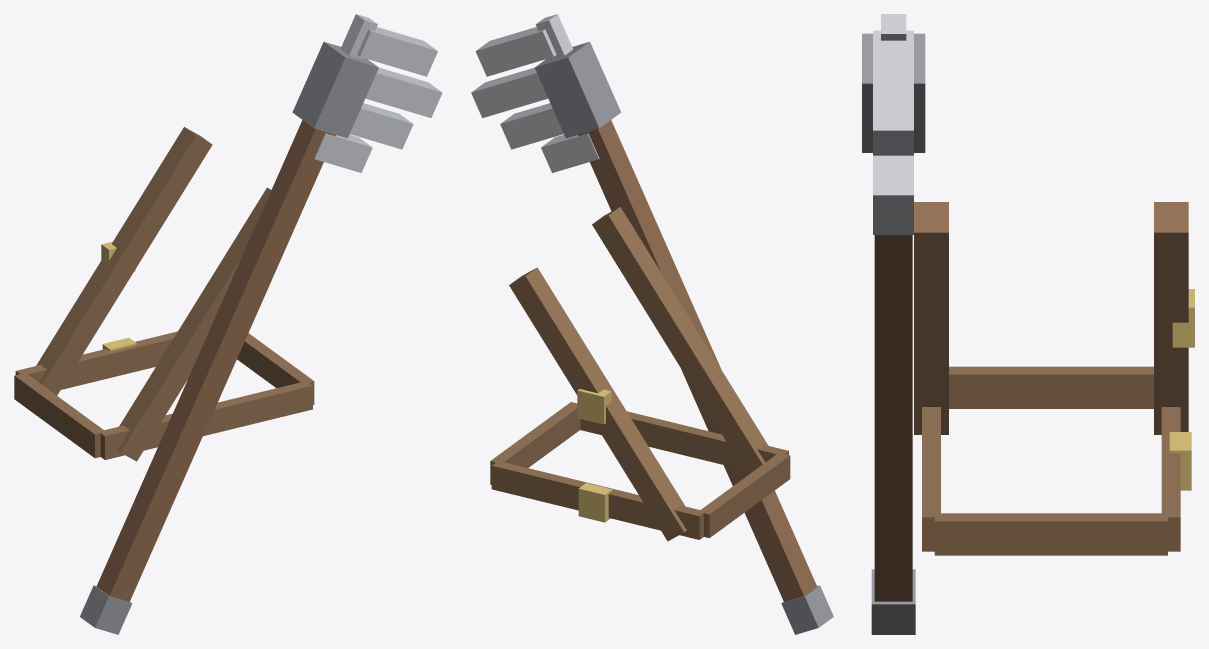
Rendered from machado_batalha_costas.glb.
3 views of the same model, side by side, from view 1: azimuth 30°, elevation 25°; view 2: azimuth 150°, elevation 25°; view 3: azimuth 270°, elevation 25° (orthographic). The views are drawn at different scales.
Visible parts, largest first — view 1: machado_batalha_costas; view 2: machado_batalha_costas; view 3: machado_batalha_costas.
Part boxes in pixels (x1=…): machado_batalha_costas: x1=14, y1=14, x2=442, y2=634; machado_batalha_costas: x1=471, y1=14, x2=833, y2=634; machado_batalha_costas: x1=862, y1=14, x2=1194, y2=634.
Size of the model in its own units: 0.9213 by 1.39 by 0.5275.
